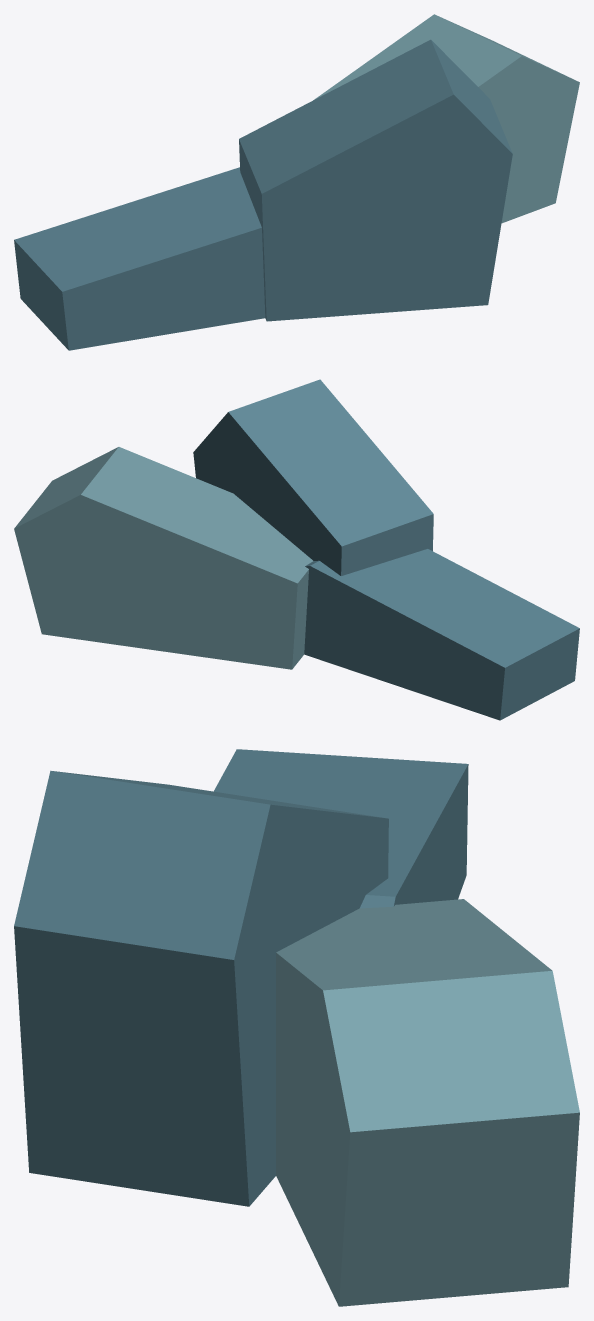
Rendered from Prop_Feature_Snow_FracturedIce_001_LOD1.glb.
The picture shows the model from 3 angles, top to bottom: view 1: azimuth 30°, elevation 25°; view 2: azimuth 150°, elevation 25°; view 3: azimuth 270°, elevation 25°; orthographic projection. The views are drawn at different scales.
Parts seen in each view (by area): view 1: Prop_Feature_Snow_FracturedIce_001_LOD1; view 2: Prop_Feature_Snow_FracturedIce_001_LOD1; view 3: Prop_Feature_Snow_FracturedIce_001_LOD1.
Boxes of the visible parts, x1=… form: Prop_Feature_Snow_FracturedIce_001_LOD1: x1=14, y1=14, x2=579, y2=350; Prop_Feature_Snow_FracturedIce_001_LOD1: x1=14, y1=379, x2=579, y2=720; Prop_Feature_Snow_FracturedIce_001_LOD1: x1=14, y1=749, x2=579, y2=1306.
Size of the model in its own units: 4.32 by 1.6 by 2.17.
